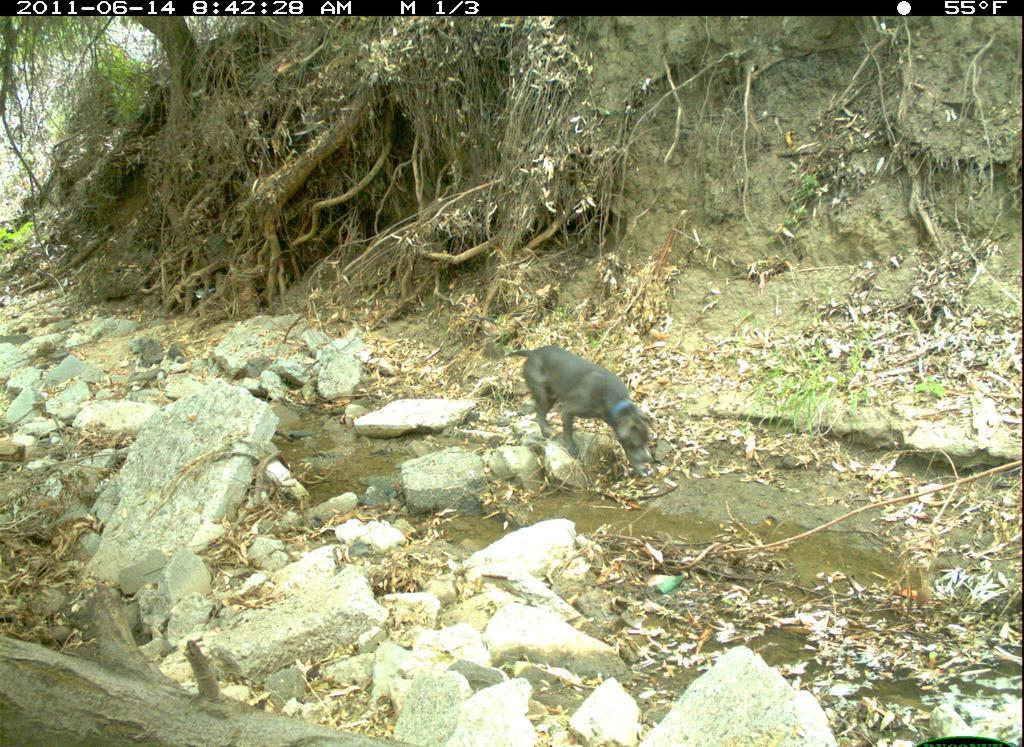dog: (489, 331, 688, 497)
